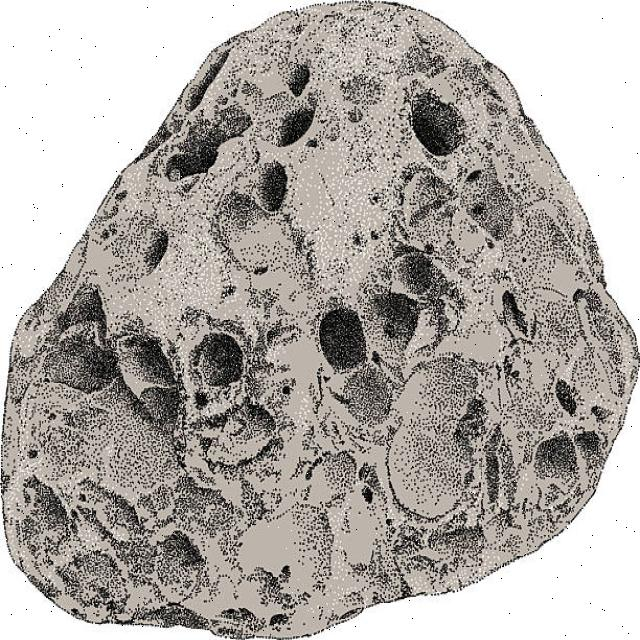Sedimentary: (3, 1, 639, 636)
